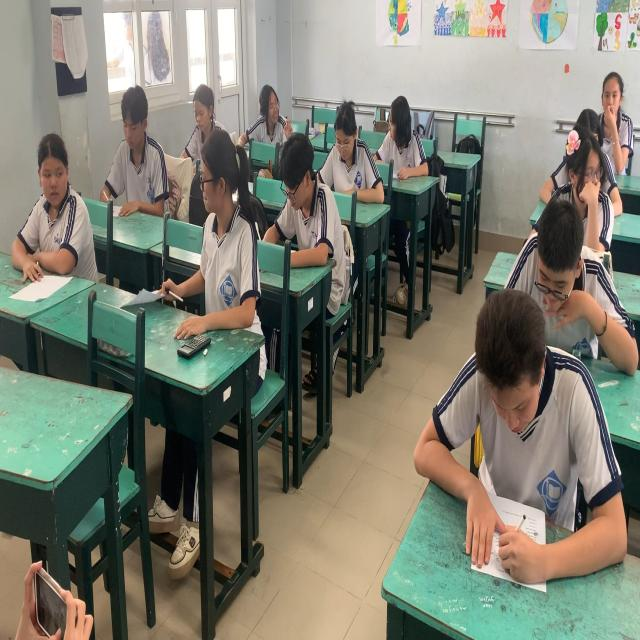cheating: (23, 123, 105, 320), (196, 130, 262, 300), (372, 85, 432, 186), (550, 130, 614, 214), (249, 71, 298, 137)
not_cheating: (410, 296, 578, 591), (512, 203, 620, 386), (111, 79, 170, 220), (280, 116, 329, 258), (324, 85, 376, 206), (181, 68, 224, 147), (593, 72, 630, 124)
